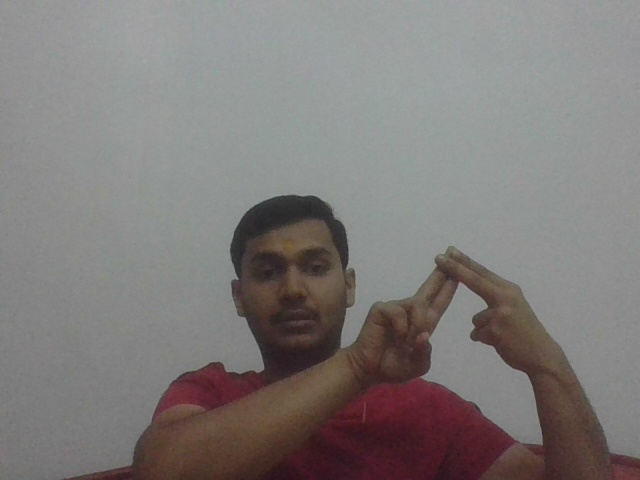F: (364, 243, 557, 378)
